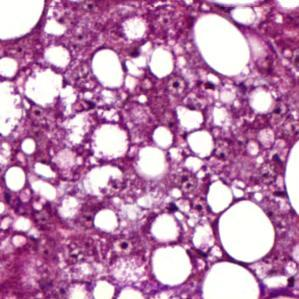steatosis: (215, 201, 278, 264), (150, 245, 192, 282)
